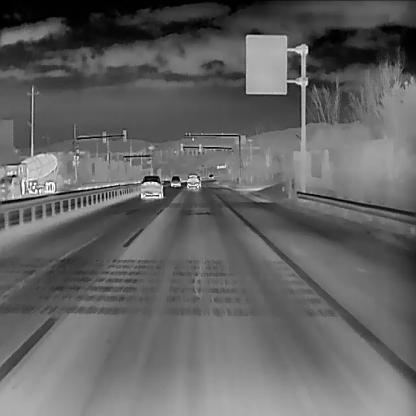car: (138, 174, 164, 197), (0, 173, 20, 197), (186, 172, 199, 188), (170, 174, 180, 186)
truck: (0, 151, 59, 193)
